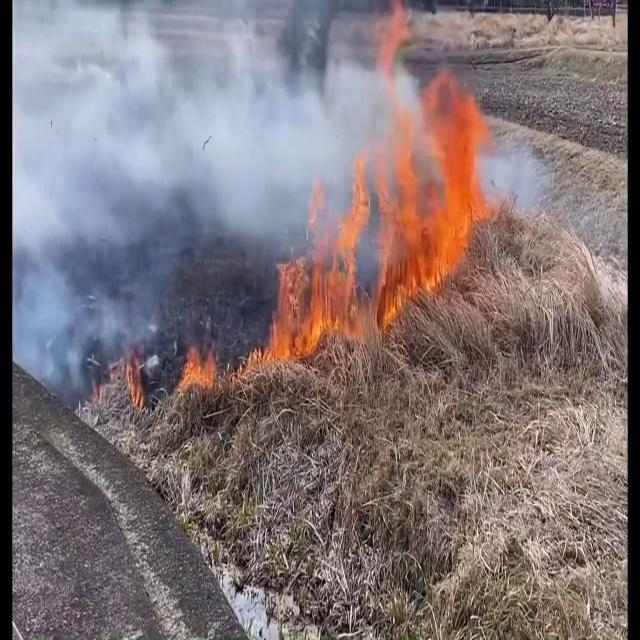Fire: (364, 15, 512, 298), (265, 146, 393, 376), (173, 336, 269, 401)
Smoke: (16, 2, 424, 286)
